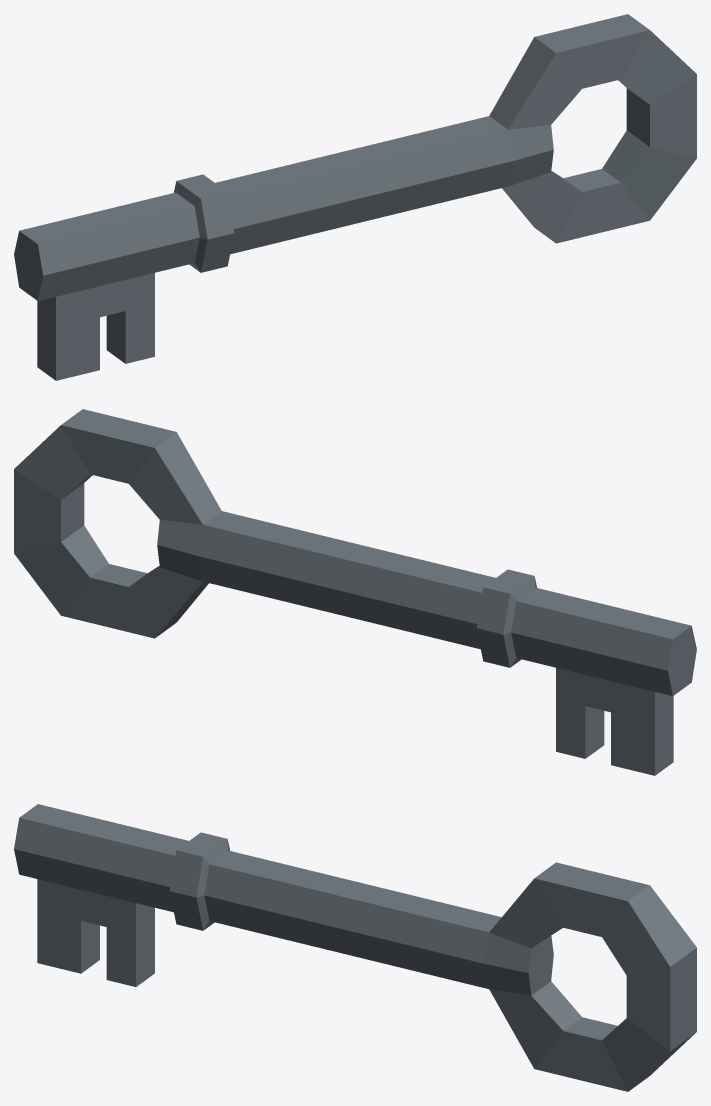
File: key.glb
The picture shows the model from 3 angles, top to bottom: view 1: azimuth 30°, elevation 25°; view 2: azimuth 150°, elevation 25°; view 3: azimuth 330°, elevation 25°; orthographic projection.
Visible parts, largest first — view 1: SM_Gen_Prop_Key_01; view 2: SM_Gen_Prop_Key_01; view 3: SM_Gen_Prop_Key_01.
Boxes of the visible parts, box(x1,y1,x2,y2) form: SM_Gen_Prop_Key_01: box(14, 14, 696, 380); SM_Gen_Prop_Key_01: box(14, 409, 696, 775); SM_Gen_Prop_Key_01: box(14, 804, 696, 1091).
Size of the model in its own units: 1 by 0.3026 by 0.1005.
1 material, 1 textured.
